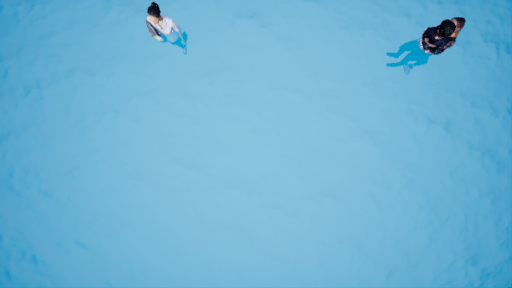person: (391, 7, 461, 78), (139, 2, 194, 55)
